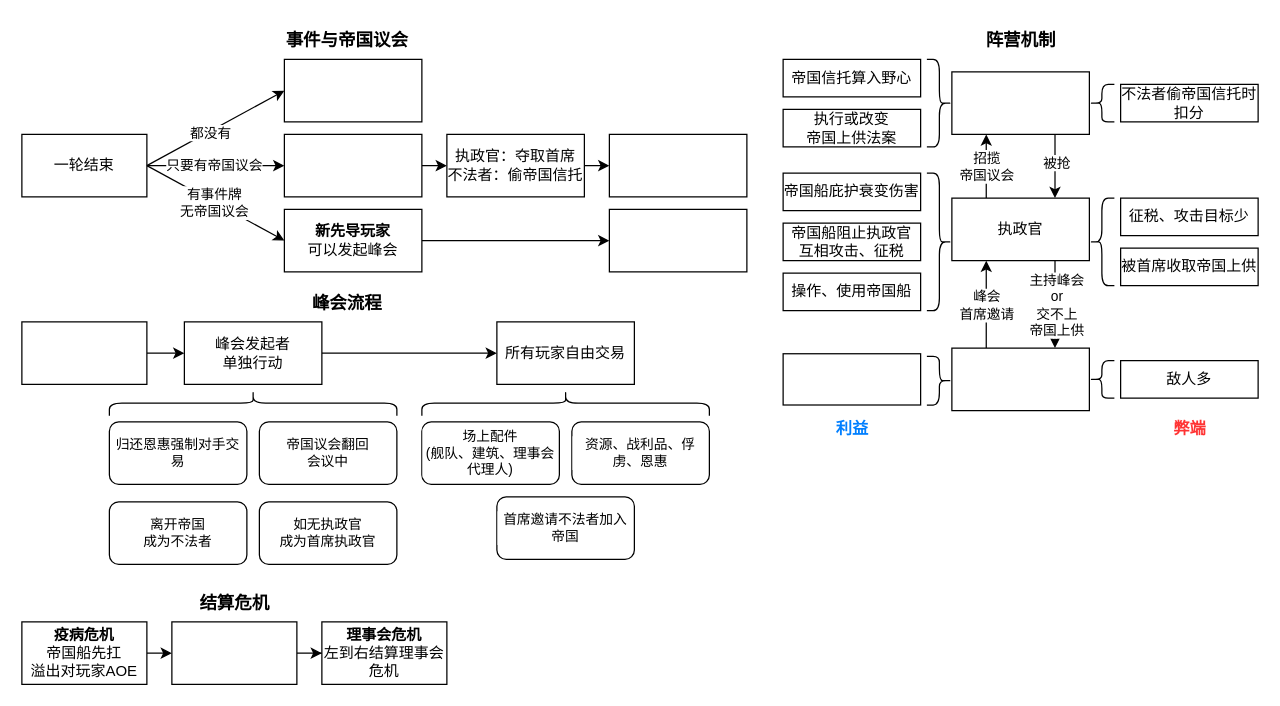
The diagram is 1280 pixels wide and 706 high, and some of its shapes have lost their labels. Each missing label, with the centre of its shape:
下一轮: (x=352, y=90)
不法者: (x=1020, y=379)
事件骰 决定 危机 or 法案: (x=677, y=240)
命运危机 命运提供卡牌上的危机: (x=234, y=652)
峰会开始: (x=84, y=352)
帝国议会招揽人 决定 危机 or 法案: (x=677, y=165)
帝国议会招揽人 可以发起峰会: (x=352, y=165)
征税、战斗自由、 不交帝国上供: (x=851, y=378)
首席执政官 额外: (x=1020, y=102)
